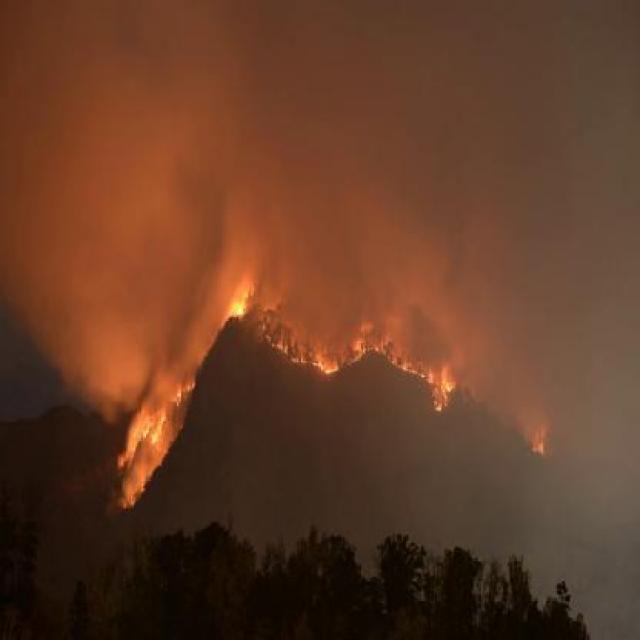Fire: (116, 404, 172, 506), (268, 330, 340, 376), (386, 354, 428, 378), (227, 282, 256, 316), (349, 338, 383, 364), (434, 372, 456, 412), (172, 380, 198, 402), (534, 432, 548, 462)
